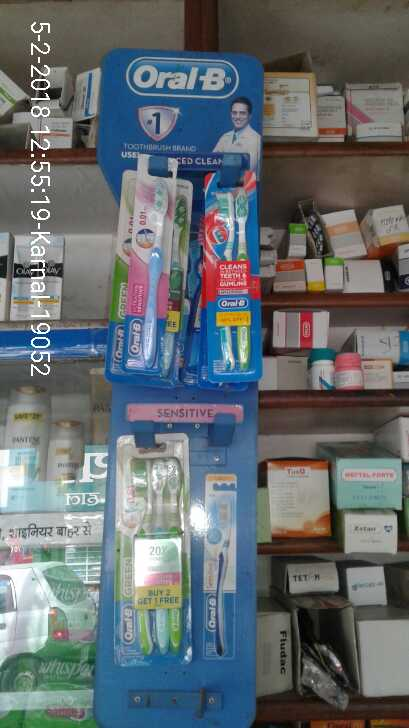beauty: (1, 392, 101, 492), (10, 227, 69, 326)
pharmacy: (189, 194, 275, 374), (118, 438, 186, 661), (112, 176, 178, 384)
